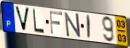9: (101, 15, 115, 44)
F: (49, 10, 64, 36)
I: (87, 14, 91, 40)
L: (33, 8, 46, 35)
N: (64, 12, 82, 39)
V: (14, 5, 31, 33)
